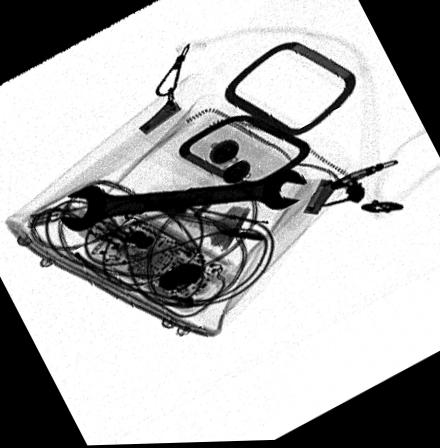Wrench: (57, 167, 309, 234)
